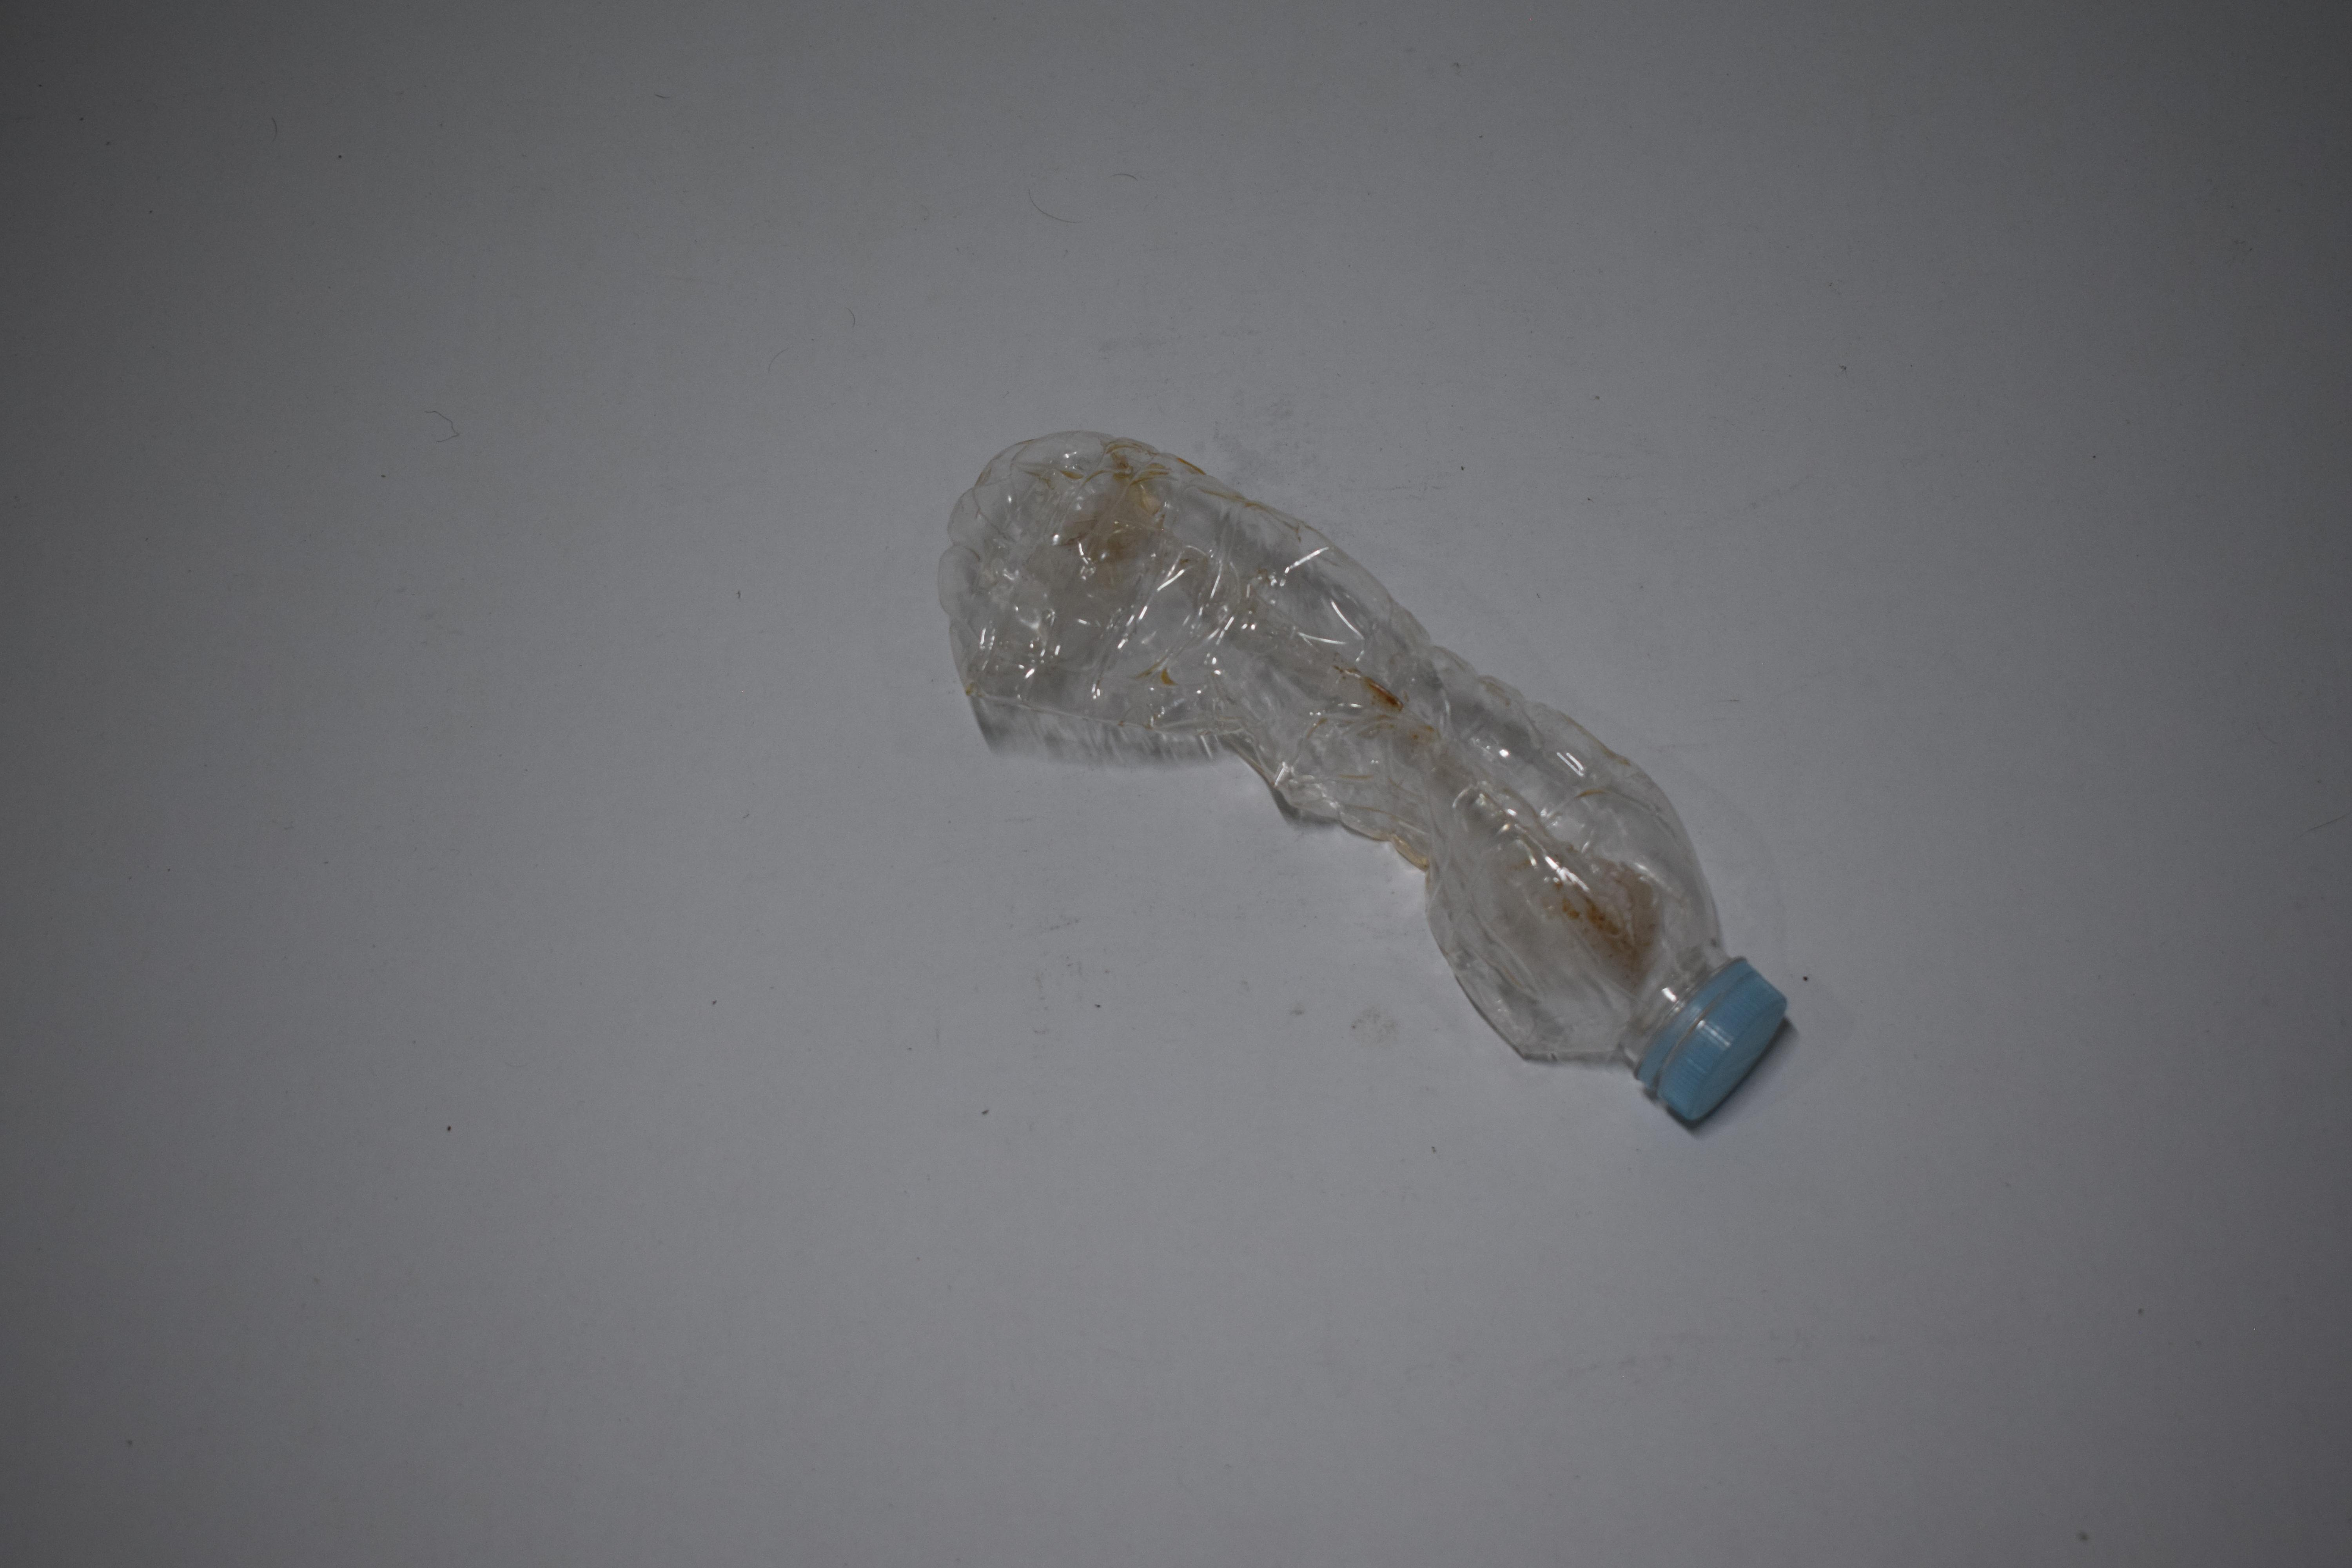bottle: (0, 455, 626, 1081)
